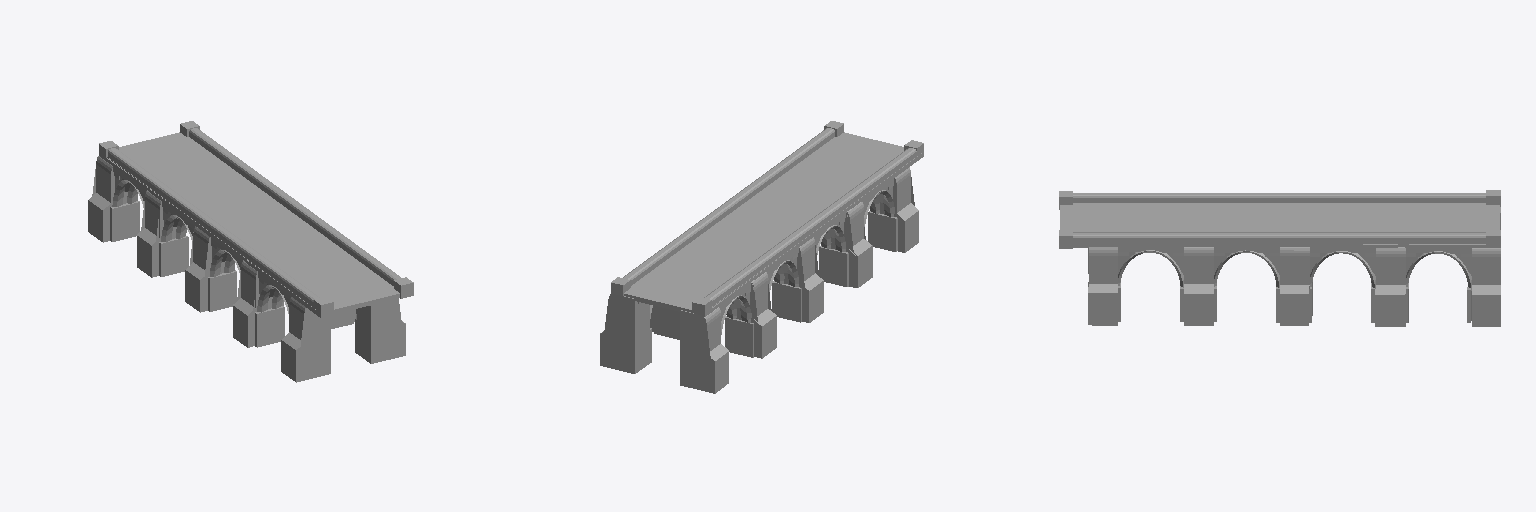
The model's file is bridge.obj.
The picture shows the model from 3 angles: view 1: azimuth 30°, elevation 25°; view 2: azimuth 150°, elevation 25°; view 3: azimuth 270°, elevation 25°; orthographic projection.
Parts seen in each view (by area): view 1: Cube.044_Cube.071; view 2: Cube.044_Cube.071; view 3: Cube.044_Cube.071.
Boxes of the visible parts, <box> form: Cube.044_Cube.071: <box>88,121,413,382</box>; Cube.044_Cube.071: <box>600,121,923,393</box>; Cube.044_Cube.071: <box>1059,190,1500,326</box>.
Bounding box in the file's own units: 7.18 × 5.14 × 23.97.